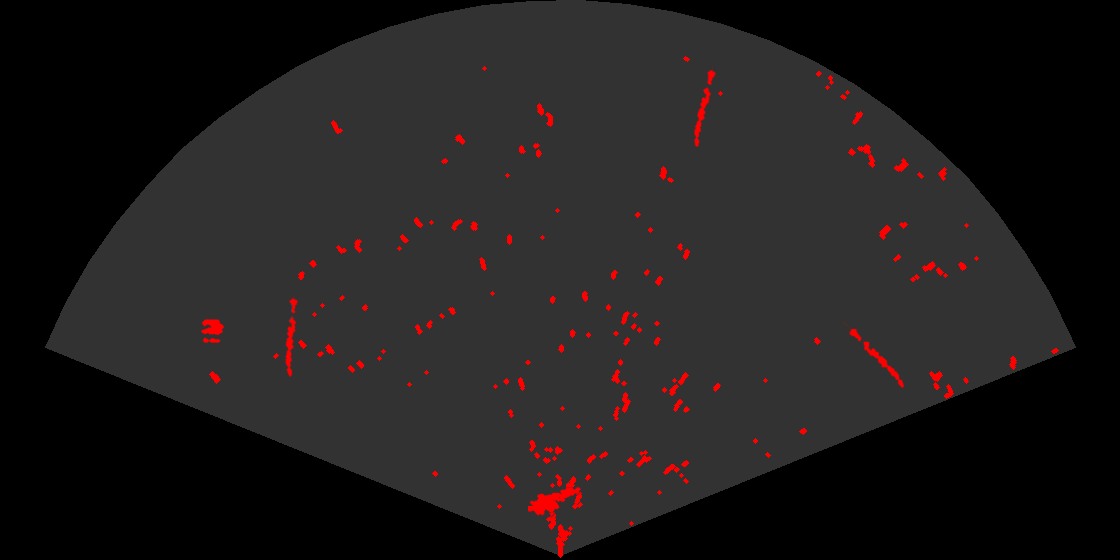ball: (199, 318, 225, 344)
chain: (843, 319, 906, 389), (692, 65, 717, 149), (283, 295, 299, 377)
frogman: (528, 486, 582, 518)
